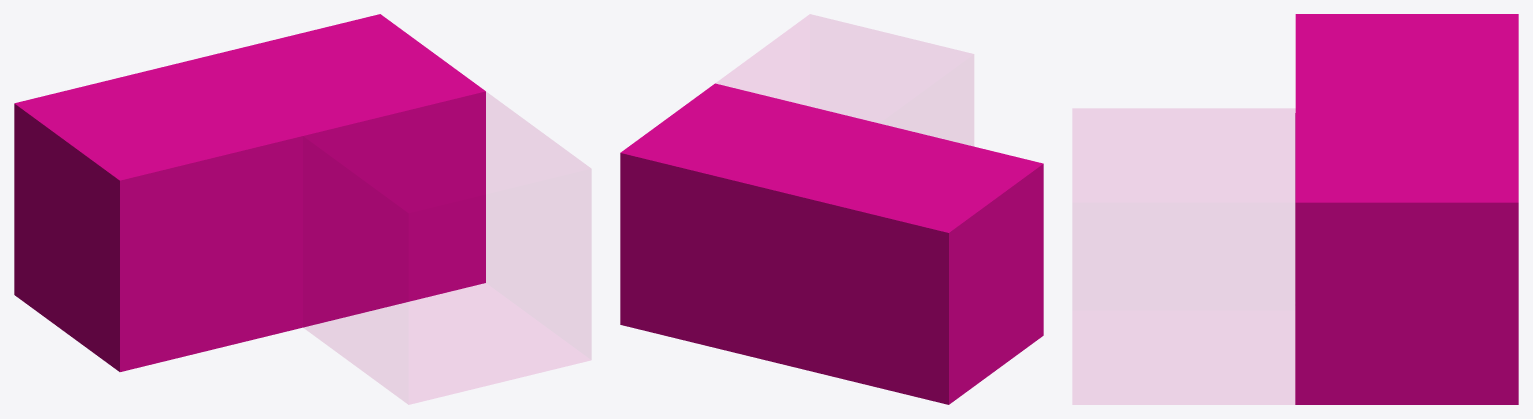
File: tileset_template.fbx_FrontLeft.fbx
3 views of the same model, side by side, from view 1: azimuth 30°, elevation 25°; view 2: azimuth 150°, elevation 25°; view 3: azimuth 270°, elevation 25° (orthographic). The views are drawn at different scales.
Parts seen in each view (by area): view 1: Cube.007, Cube.008; view 2: Cube.007, Cube.008; view 3: Cube.007, Cube.008.
Part boxes in pixels (x1,y1,x2,y2): Cube.007: [14, 14, 485, 371]; Cube.008: [305, 92, 590, 403]; Cube.007: [620, 83, 1043, 404]; Cube.008: [717, 15, 973, 145]; Cube.007: [1295, 14, 1518, 404]; Cube.008: [1073, 109, 1294, 404].
Bounding box in the file's own units: 400 × 200 × 400.
